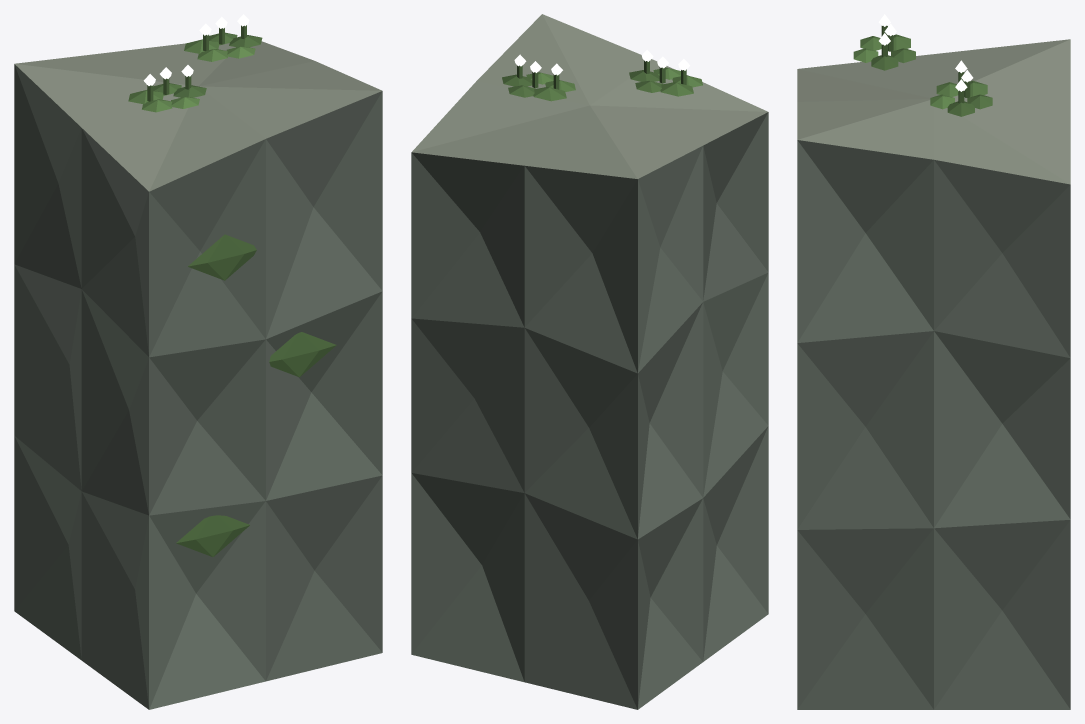
File: mine_wall_moss.glb
3 views of the same model, side by side, from view 1: azimuth 30°, elevation 25°; view 2: azimuth 150°, elevation 25°; view 3: azimuth 270°, elevation 25° (orthographic). The views are drawn at different scales.
Parts seen in each view (by area): view 1: geometry, glow-moss; view 2: geometry; view 3: geometry, glow-moss.
Boxes of the visible parts, x1=… form: geometry: x1=14, y1=25, x2=382, y2=709; glow-moss: x1=143, y1=14, x2=249, y2=85; geometry: x1=411, y1=14, x2=768, y2=709; geometry: x1=797, y1=25, x2=1070, y2=709; glow-moss: x1=878, y1=14, x2=973, y2=91.
Size of the model in its own units: 1 by 2.43 by 1.
